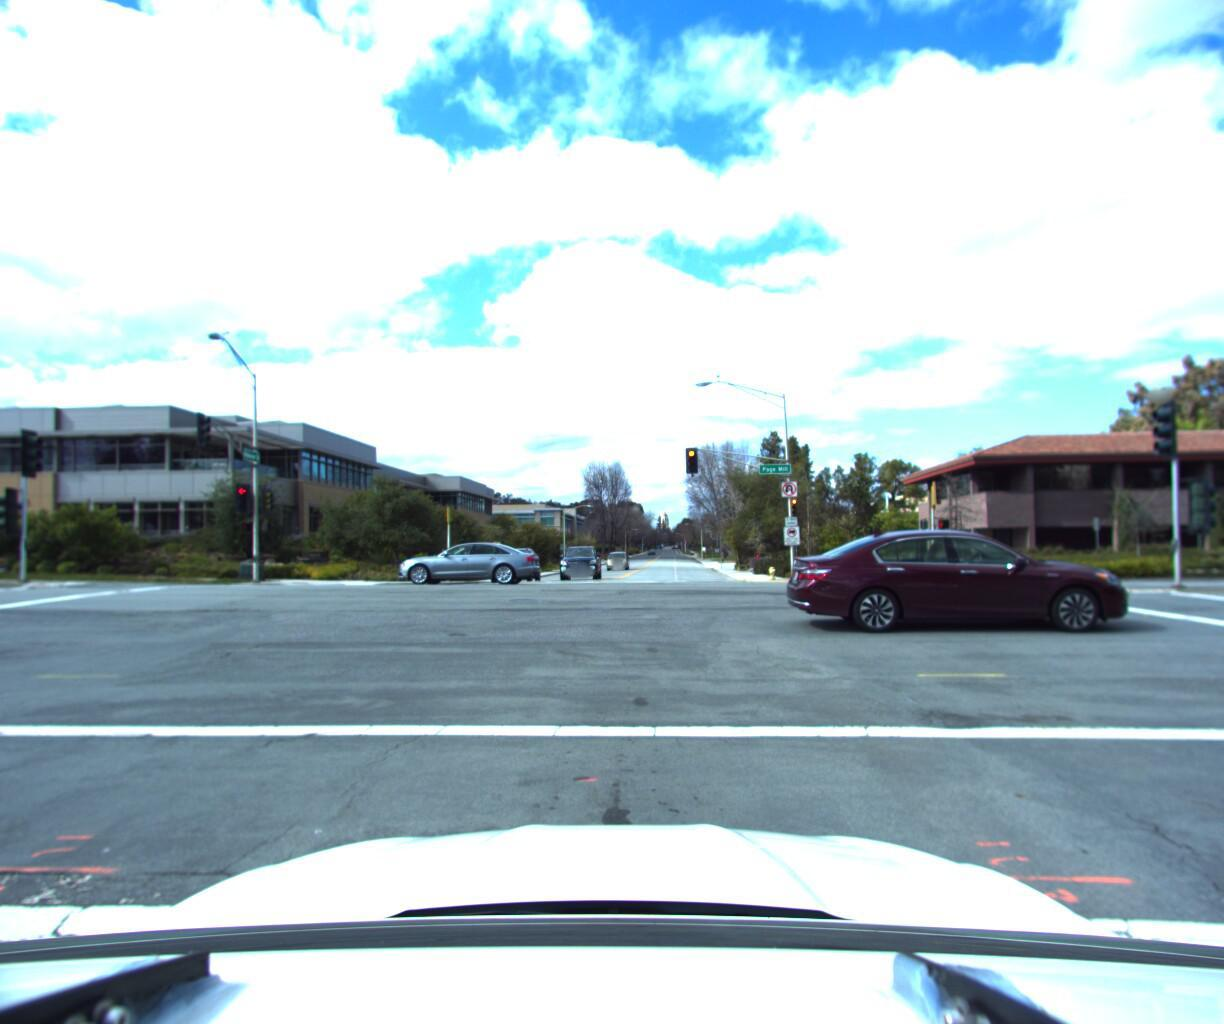car: (773, 529, 1133, 637), (390, 541, 545, 591), (551, 548, 602, 585), (604, 555, 627, 576)
